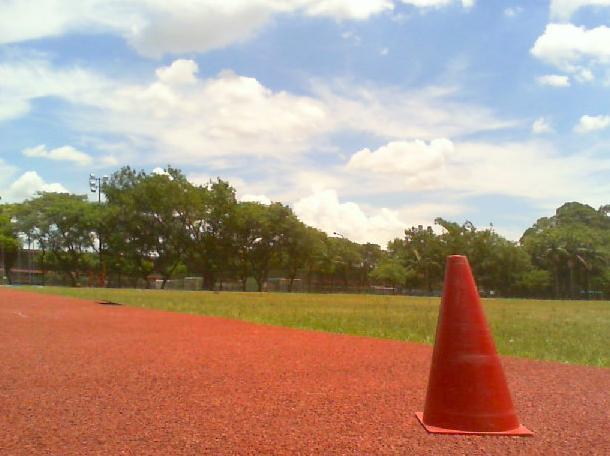0 cone: (413, 255, 535, 438)
